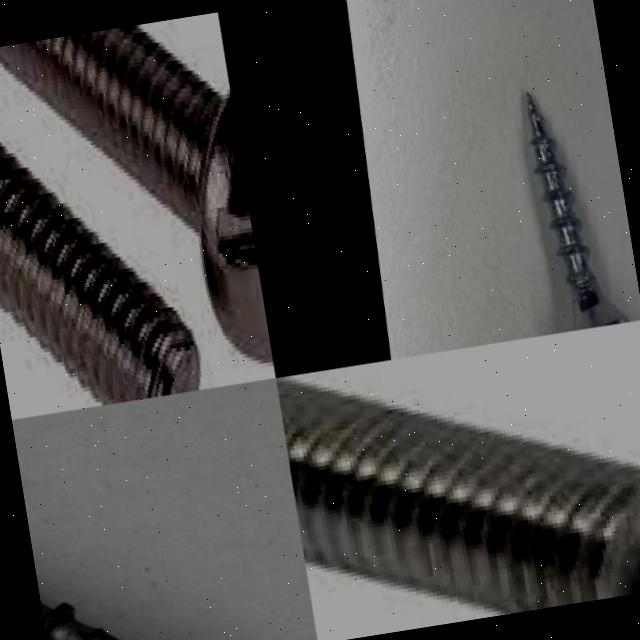Screw: (0, 25, 273, 361), (276, 377, 640, 616), (15, 399, 318, 640), (0, 144, 204, 407), (527, 91, 629, 331)
